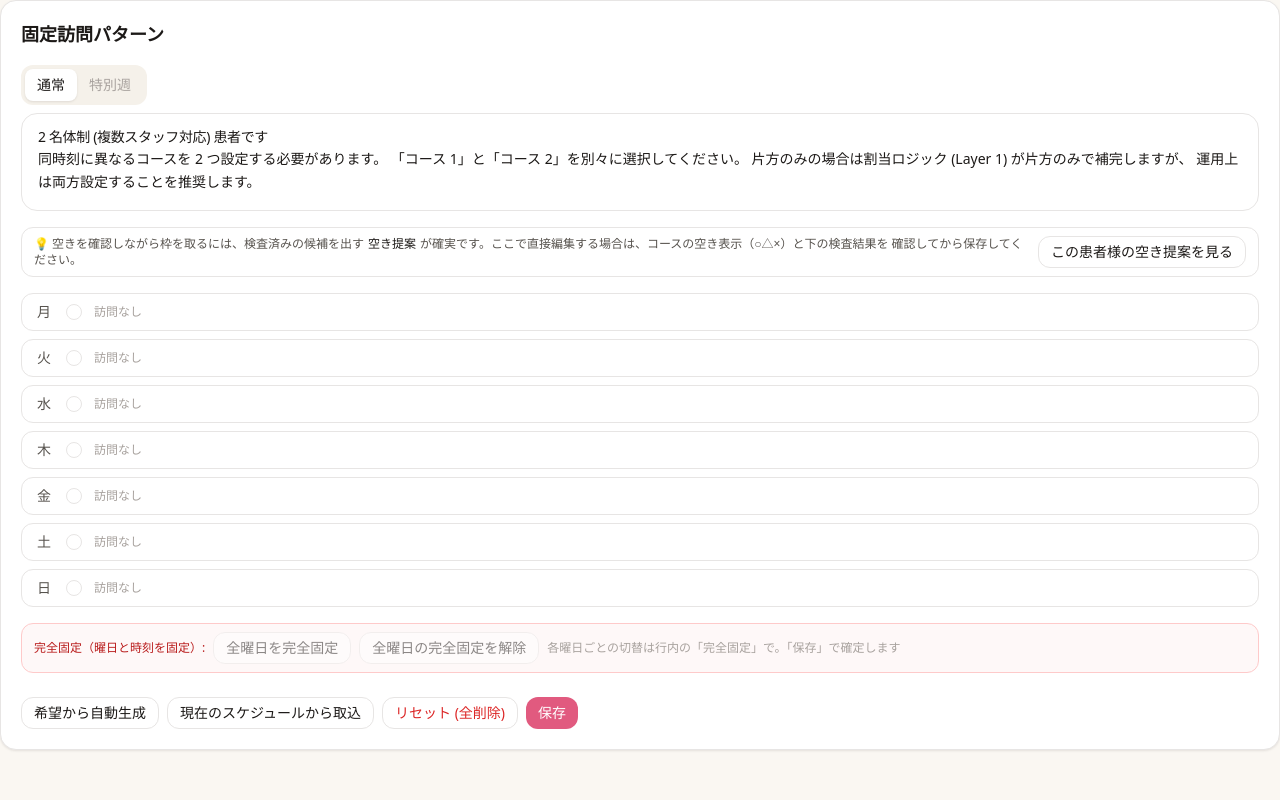
Test: PatientFixedVisitsPanel › 14. (W37) requiresMultipleStaff=true: コース 2 セレクタが enabled
This screenshot has width=1280, height=800.
// 月曜を ON にする
Click the checkbox named "月曜日 訪問あり" at {"x": 74, "y": 312}, box [66,304,82,320]
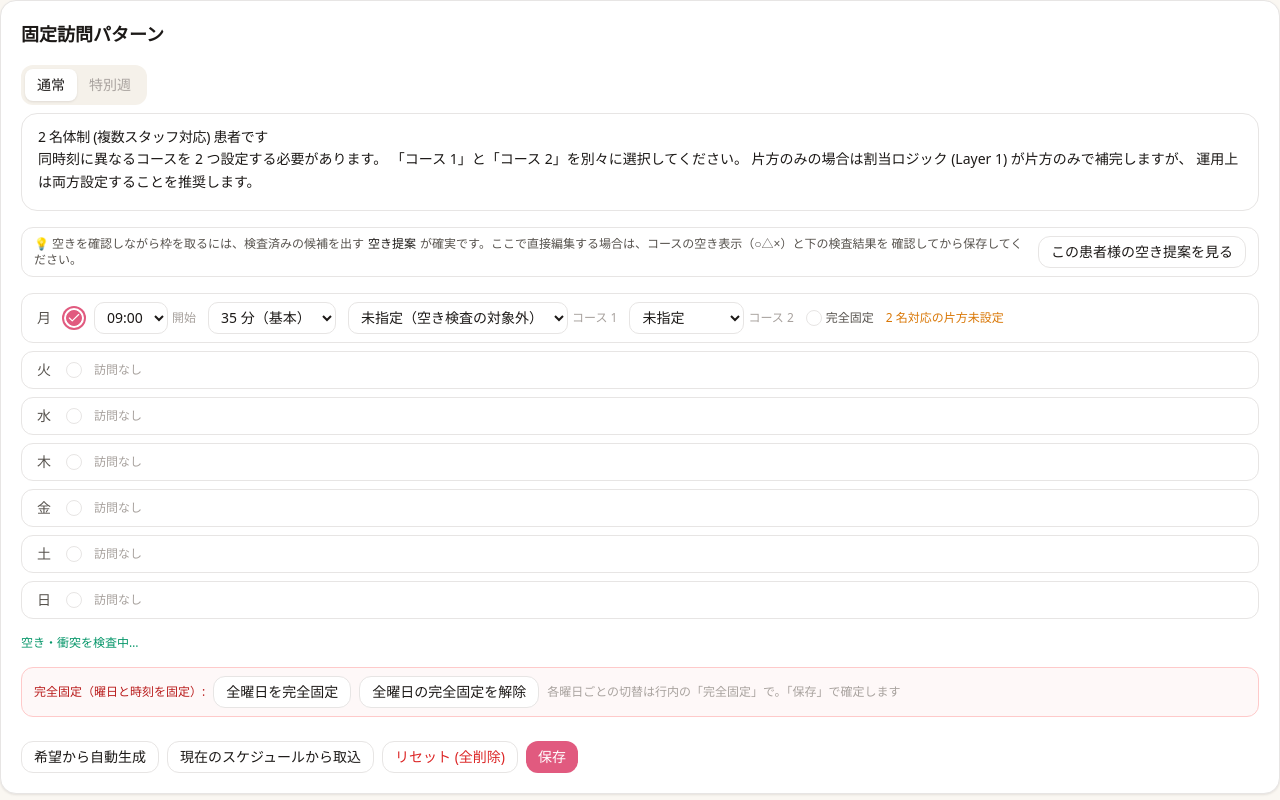
Check: the dropdown named "月 コース 1" is shown, box [348,302,568,334]
Check: the dropdown named "月 コース 2" is enabled, box [629,302,744,334]
